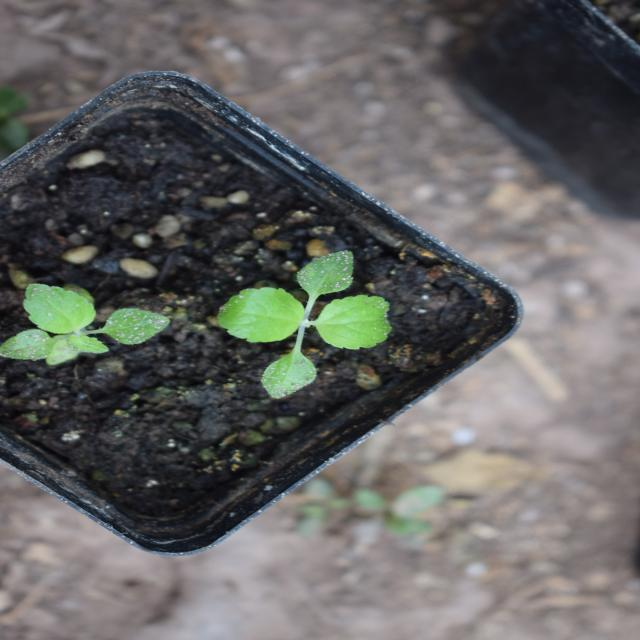billygoat_weed: (244, 249, 402, 444), (282, 482, 374, 632)
